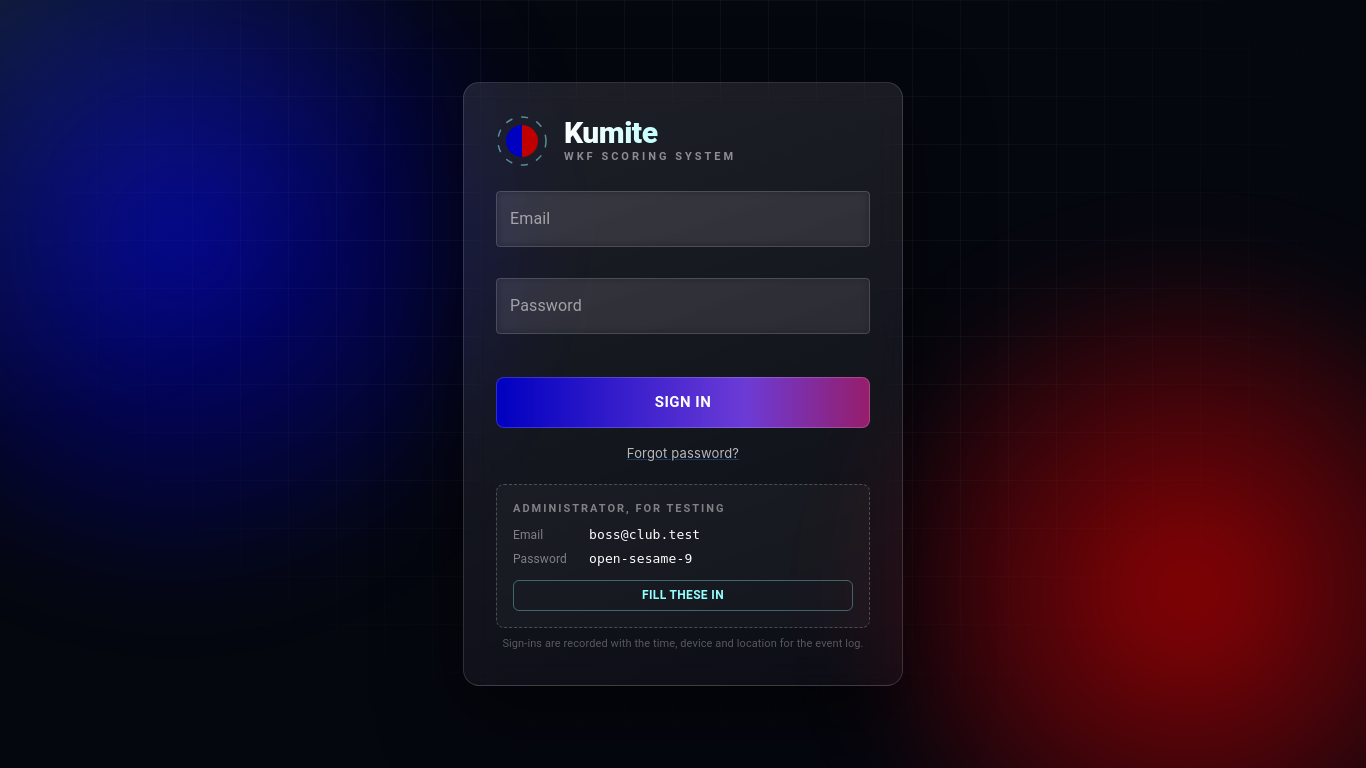
Test: Login › tells someone rate-limited to wait, not that their password is wrong
Type "ref@club.test" into the field labelled "Email". click: [683, 219]
box: [496,191,870,247]
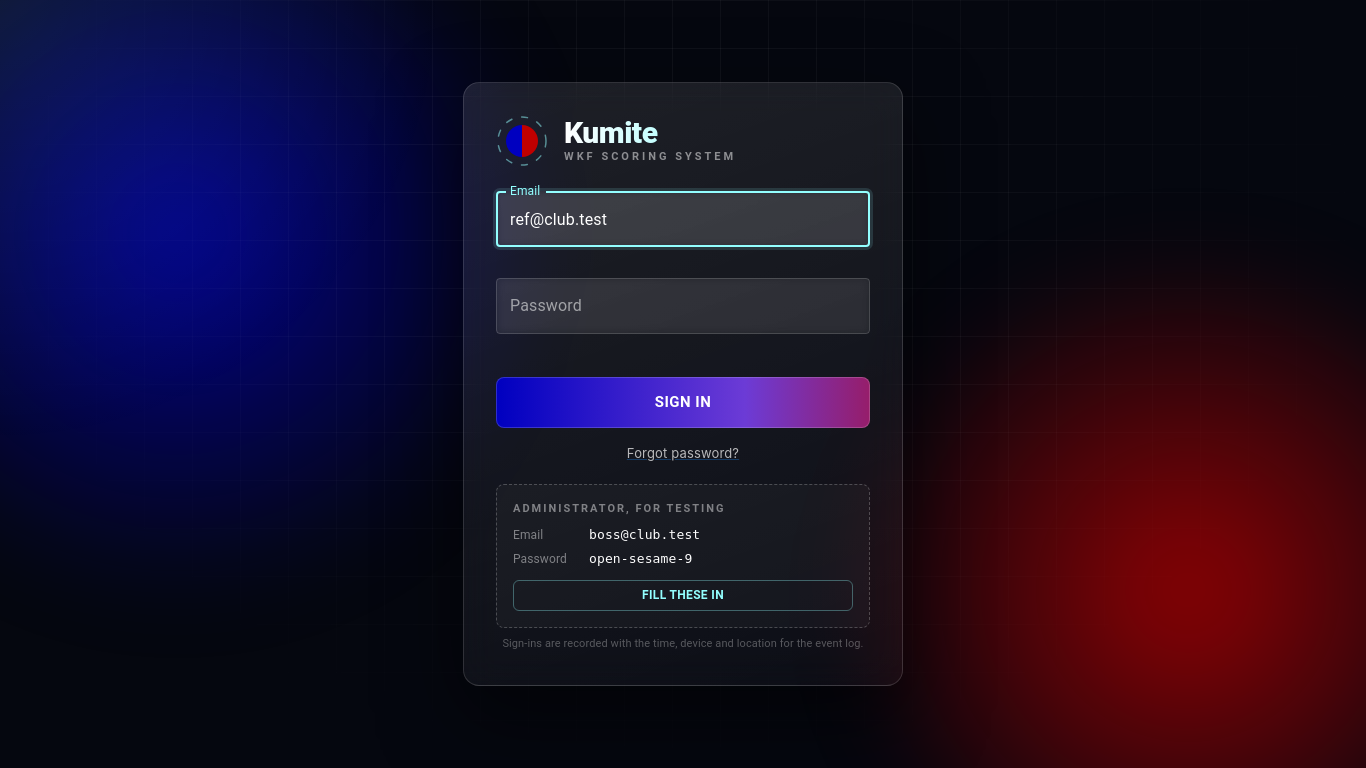
Type "correct horse" into the password field labelled "Password". click: [683, 306]
box: [496,278,870,334]
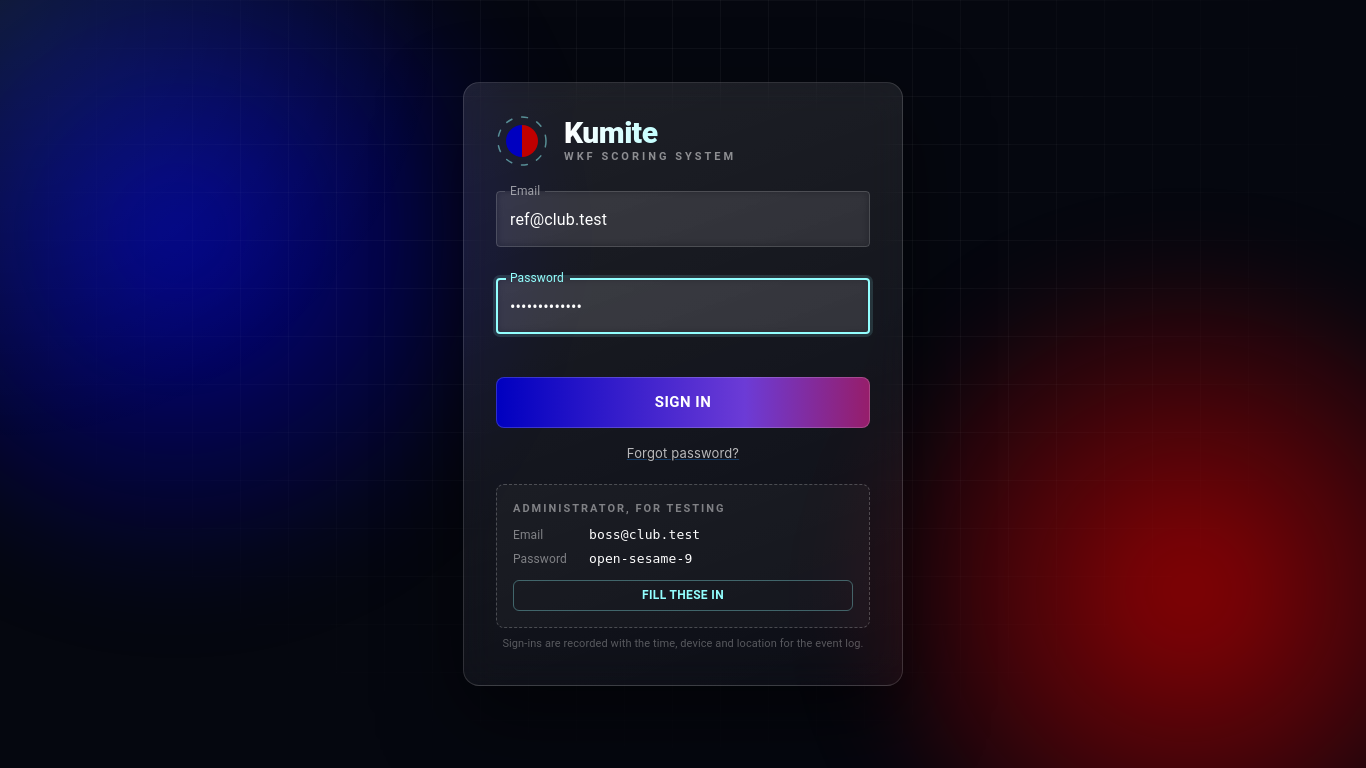
Click the button "Sign in". click: [683, 402]
box: [496,377,870,428]
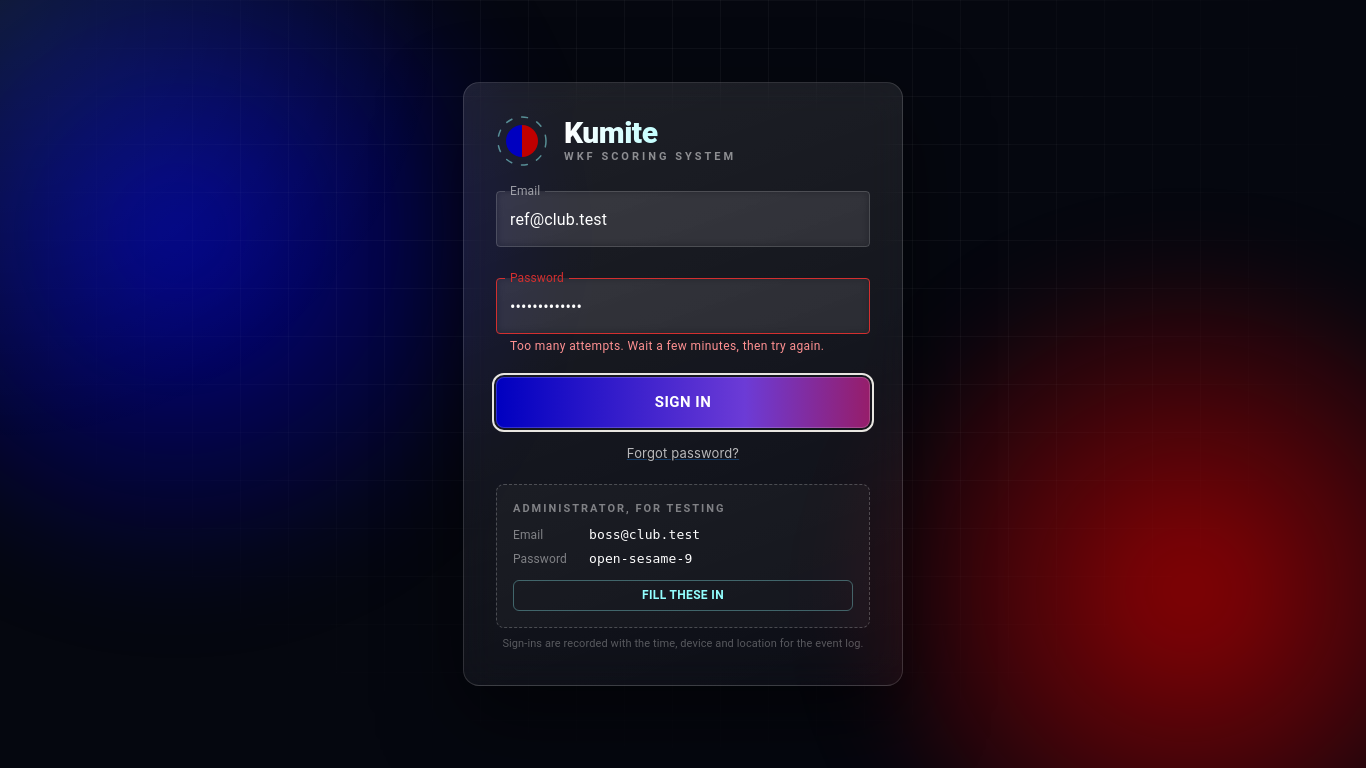
Expected: the text "Too many attempts. Wait a few minutes, then try again." is shown, [510,337,856,357]
